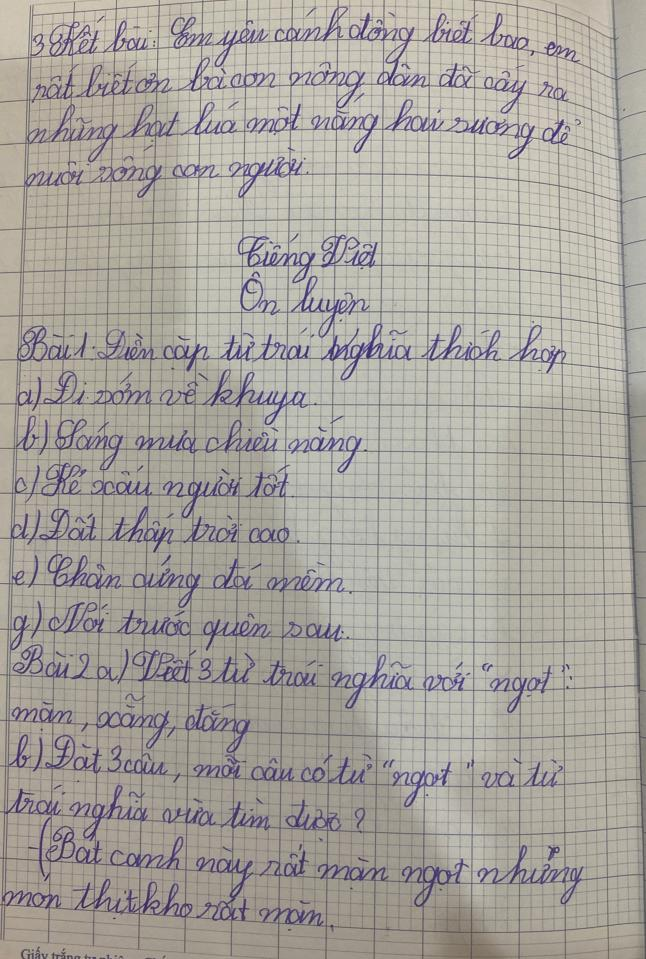text: (26, 818, 586, 913), (7, 730, 566, 813), (8, 642, 574, 716), (24, 99, 583, 166), (31, 4, 585, 70), (30, 53, 572, 120), (15, 320, 571, 385), (13, 411, 371, 477), (5, 780, 369, 842), (8, 550, 352, 612), (4, 875, 336, 935), (8, 598, 354, 655), (12, 366, 314, 430), (20, 141, 314, 203), (12, 459, 295, 521), (7, 503, 295, 559), (4, 692, 253, 756), (236, 270, 372, 342), (235, 229, 382, 285), (17, 945, 82, 959)
